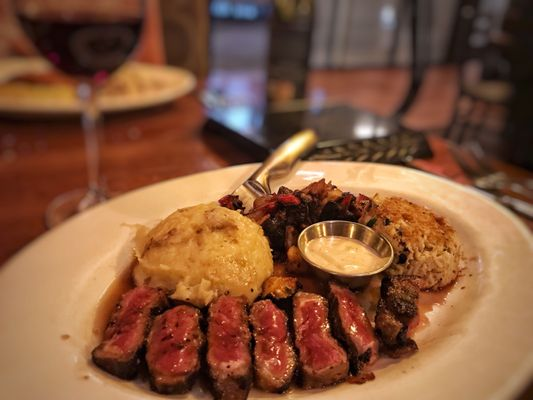sushi: (298, 220, 395, 285)
